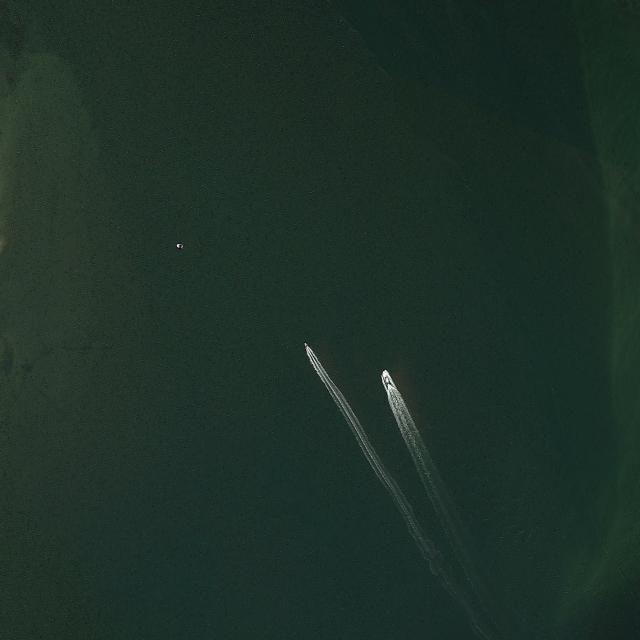ship: (382, 368, 389, 386), (176, 243, 184, 250), (304, 341, 308, 350)
